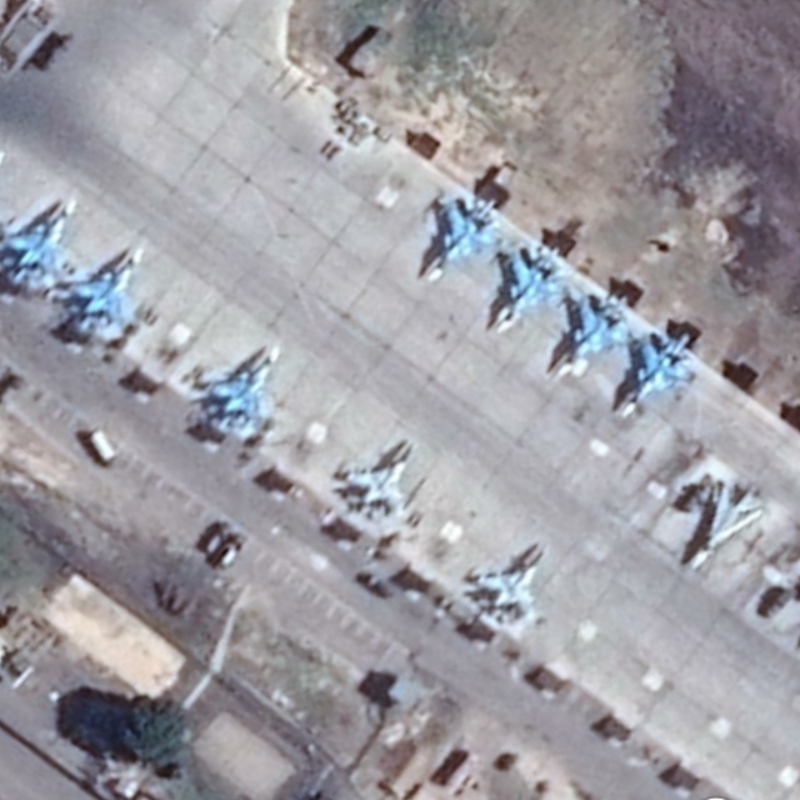A1: (341, 438, 417, 525), (474, 542, 550, 626)
A19: (58, 243, 146, 343), (551, 287, 638, 387), (491, 242, 577, 338), (201, 344, 285, 439), (618, 327, 701, 423), (1, 195, 80, 295), (423, 194, 509, 282)
A20: (686, 480, 766, 572)
